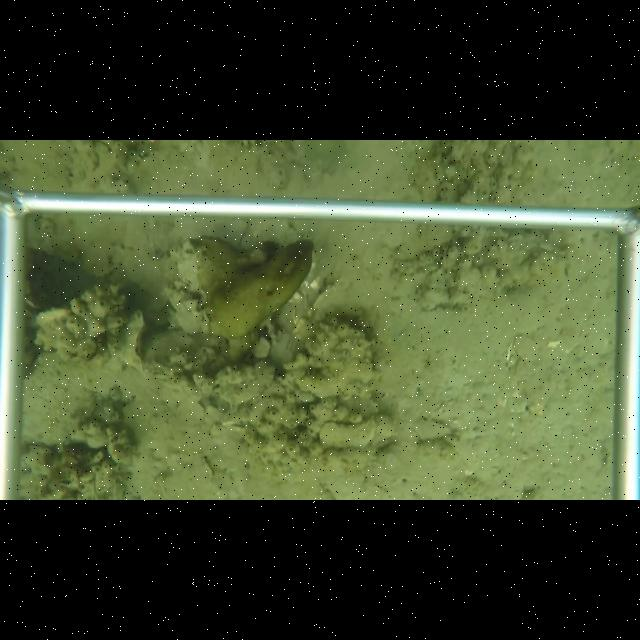Oyster-Closed: (212, 360, 278, 406), (317, 412, 380, 454), (121, 307, 148, 375), (411, 417, 456, 444)
